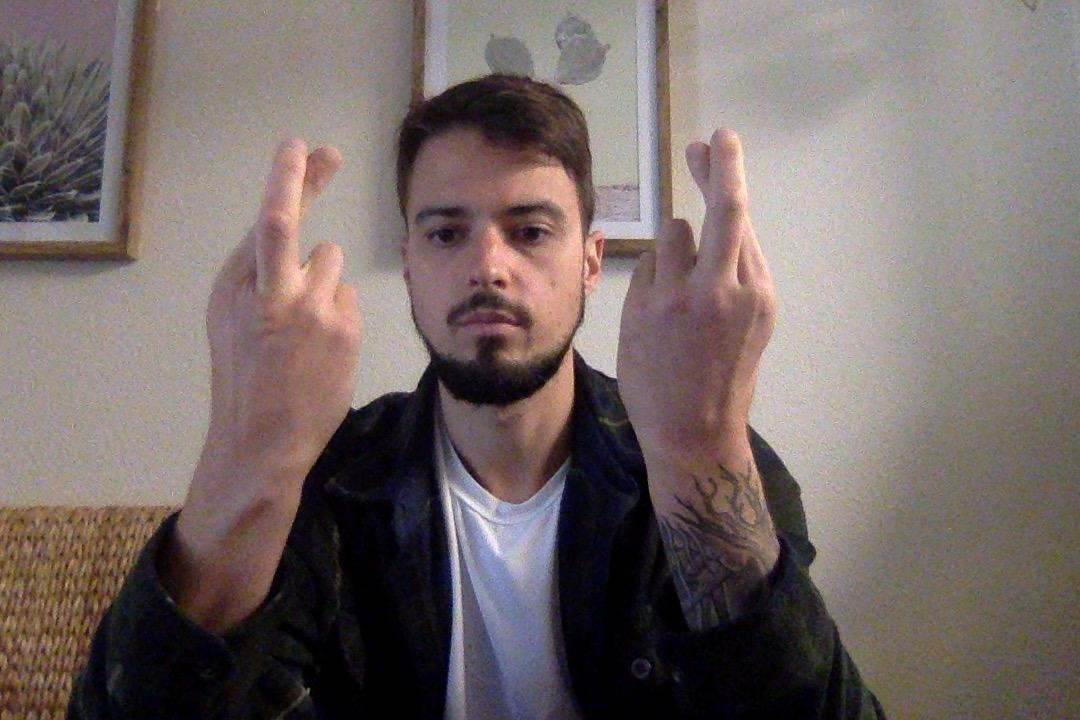Fingers-Crossed: (198, 128, 378, 499), (623, 127, 788, 502)
